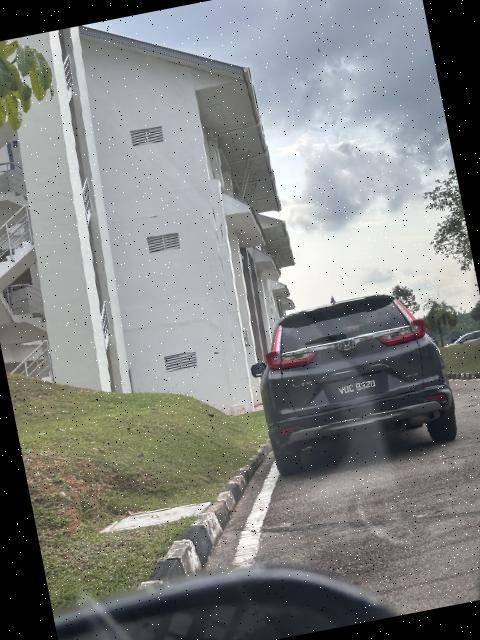License_Plate: (327, 373, 392, 407)
VUC9323: (327, 373, 392, 407)
car: (242, 281, 465, 480)
